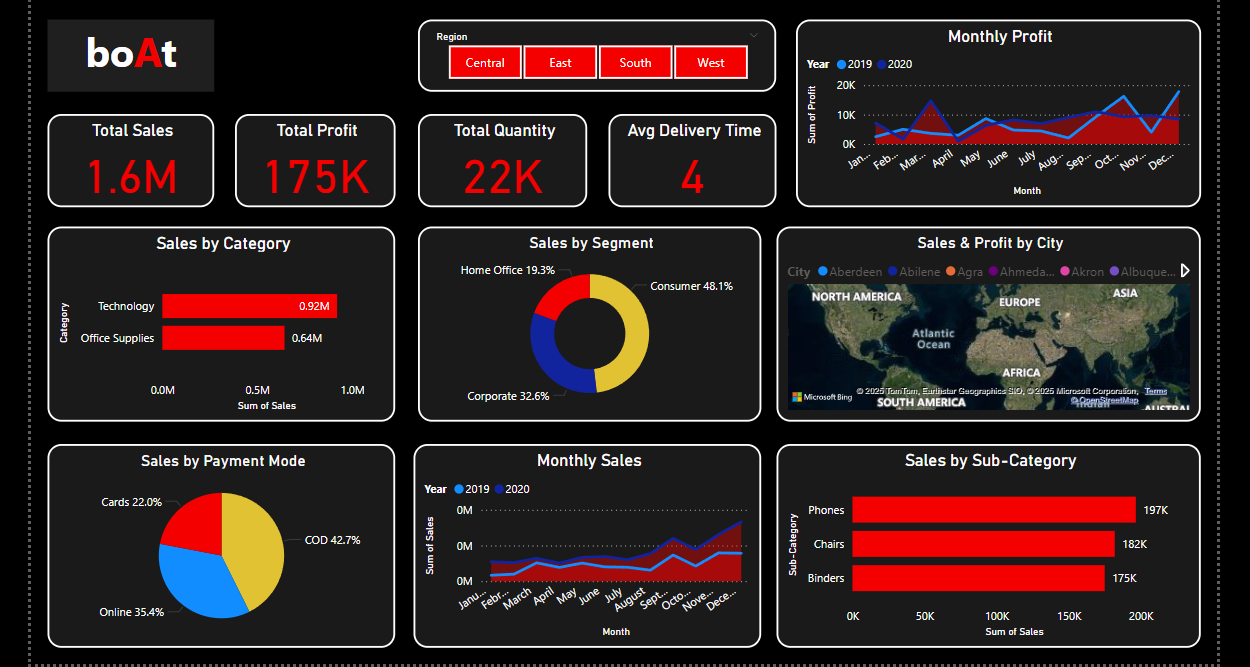

The dashboard page shown, as its layout file describes it:
{"tool":"powerbi","page":{"name":"Dashboard","canvas":[1280,720],"ordinal":0},"visuals":[{"type":"card","title":"Total Sales","fields":{"Values":["Sum(Sheet1.Sales)"]},"box":[17.8,126.3,179.7,100.4],"z":0},{"type":"card","title":"Total Profit","fields":{"Values":["Sum(Sheet1.Profit)"]},"box":[220.2,126.3,173.3,100.4],"z":1000},{"type":"card","title":"Total Quantity","fields":{"Values":["Sum(Sheet1.Quantity)"]},"box":[417.8,126.3,183,100.4],"z":2000},{"type":"card","title":"Avg Delivery Time","fields":{"Values":["Avg(Sheet1.Avgerage Delivery Time)"]},"box":[623.4,126.3,181.4,100.4],"z":3000},{"type":"areaChart","title":"Monthly Profit ","fields":{"Category":["Sheet1.Order Date.Variation.Date Hierarchy.Month"],"Y":["Sum(Sheet1.Profit)"],"Series":["Sheet1.Order Date.Variation.Date Hierarchy.Year"]},"box":[825.8,24.3,437.2,202.4],"z":4000},{"type":"clusteredBarChart","title":"Sales by Category","fields":{"Category":["Sheet1.Category"],"Y":["Sum(Sheet1.Sales)"]},"box":[17.8,247.7,375.7,210.5],"z":5000},{"type":"clusteredBarChart","title":"Sales by Sub-Category","fields":{"Y":["Sum(Sheet1.Sales)"],"Category":["Sheet1.Sub-Category"]},"box":[804.8,482.5,458.2,220.2],"z":6000},{"type":"areaChart","title":"Monthly Sales","fields":{"Category":["Sheet1.Order Date.Variation.Date Hierarchy.Month"],"Series":["Sheet1.Order Date.Variation.Date Hierarchy.Year"],"Y":["Sum(Sheet1.Sales)"]},"box":[412.9,482.5,375.7,220.2],"z":7000},{"type":"donutChart","title":"Sales by Segment","fields":{"Category":["Sheet1.Segment"],"Y":["Sum(Sheet1.Sales)"]},"box":[417.8,247.7,370.8,210.5],"z":8000},{"type":"pieChart","title":"Sales by Payment Mode","fields":{"Y":["Sum(Sheet1.Sales)"],"Category":["Sheet1.Payment Mode"]},"box":[17.8,482.5,375.7,220.2],"z":9000},{"type":"map","title":"Sales & Profit by City","fields":{"Size":["Sum(Sheet1.Sales)"],"Series":["Sheet1.City"]},"box":[804.8,247.7,458.2,210.5],"z":10000},{"type":"slicer","fields":{"Values":["Sheet1.Region"]},"box":[417.8,24.3,387,77.7],"z":11000},{"type":"textbox","box":[17.8,24.3,179.7,77.7],"z":12000}]}

Visuals, with their boxes in screenshot pixels (x1, y1, x2, y2):
"Total Sales" card: <box>52,112,216,204</box>
"Total Profit" card: <box>237,112,395,204</box>
"Total Quantity" card: <box>418,112,585,204</box>
"Avg Delivery Time" card: <box>606,112,771,204</box>
"Monthly Profit " areaChart: <box>791,19,1190,204</box>
"Sales by Category" clusteredBarChart: <box>52,223,395,416</box>
"Sales by Sub-Category" clusteredBarChart: <box>771,438,1190,639</box>
"Monthly Sales" areaChart: <box>413,438,757,639</box>
"Sales by Segment" donutChart: <box>418,223,757,416</box>
"Sales by Payment Mode" pieChart: <box>52,438,395,639</box>
"Sales & Profit by City" map: <box>771,223,1190,416</box>
slicer - Sheet1.Region: <box>418,19,771,90</box>
textbox: <box>52,19,216,90</box>
